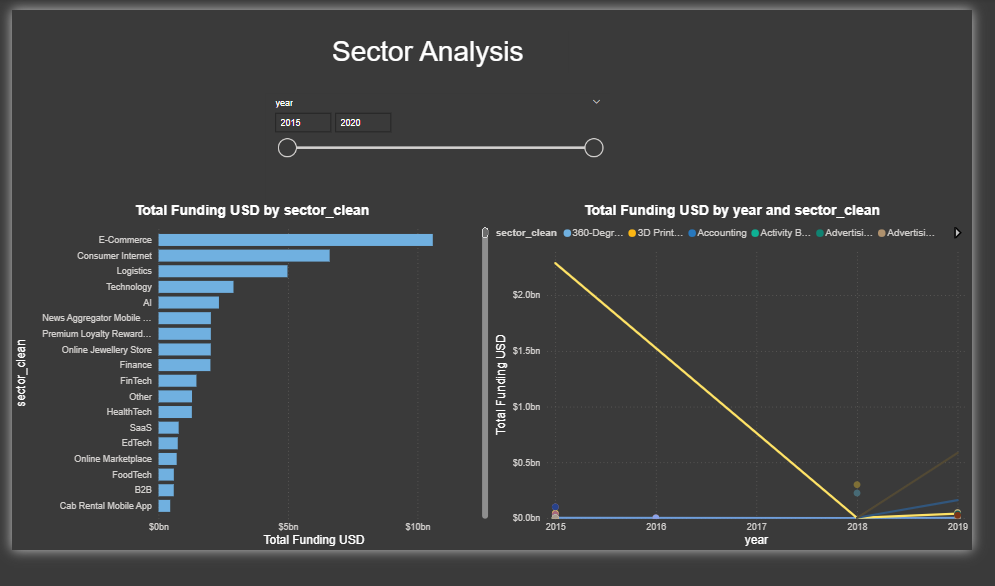

What the dashboard file says about the page in this screenshot:
{"tool":"powerbi","page":{"name":"Sector Analysis","canvas":[1280,720],"ordinal":1},"visuals":[{"type":"clusteredBarChart","fields":{"Category":["startup_funding_cleaned.sector_clean"],"Y":["startup_funding_cleaned.Total Funding USD"]},"box":[0,256.7,640,463.3],"z":0},{"type":"lineChart","fields":{"Y":["startup_funding_cleaned.Total Funding USD"],"Category":["startup_funding_cleaned.year"],"Series":["startup_funding_cleaned.sector_clean"]},"box":[640,256.7,640,463.3],"z":1},{"type":"slicer","fields":{"Values":["startup_funding_cleaned.year"]},"box":[338.3,111.7,458.3,145],"z":2},{"type":"textbox","box":[421.7,28.3,320,55],"z":3}]}

Visuals, with their boxes on the page's 1280x720 design canvas (x1, y1, x2, y2). These are canvas units, not pixel positions in the 995x586 screenshot, which may show the page scaled, cropped or inside an application window:
clusteredBarChart - startup_funding_cleaned.sector_clean x startup_funding_cleaned.Total Funding USD: l=0, t=257, r=640, b=720
lineChart - startup_funding_cleaned.Total Funding USD x startup_funding_cleaned.year: l=640, t=257, r=1280, b=720
slicer - startup_funding_cleaned.year: l=338, t=112, r=797, b=257
textbox: l=422, t=28, r=742, b=83
